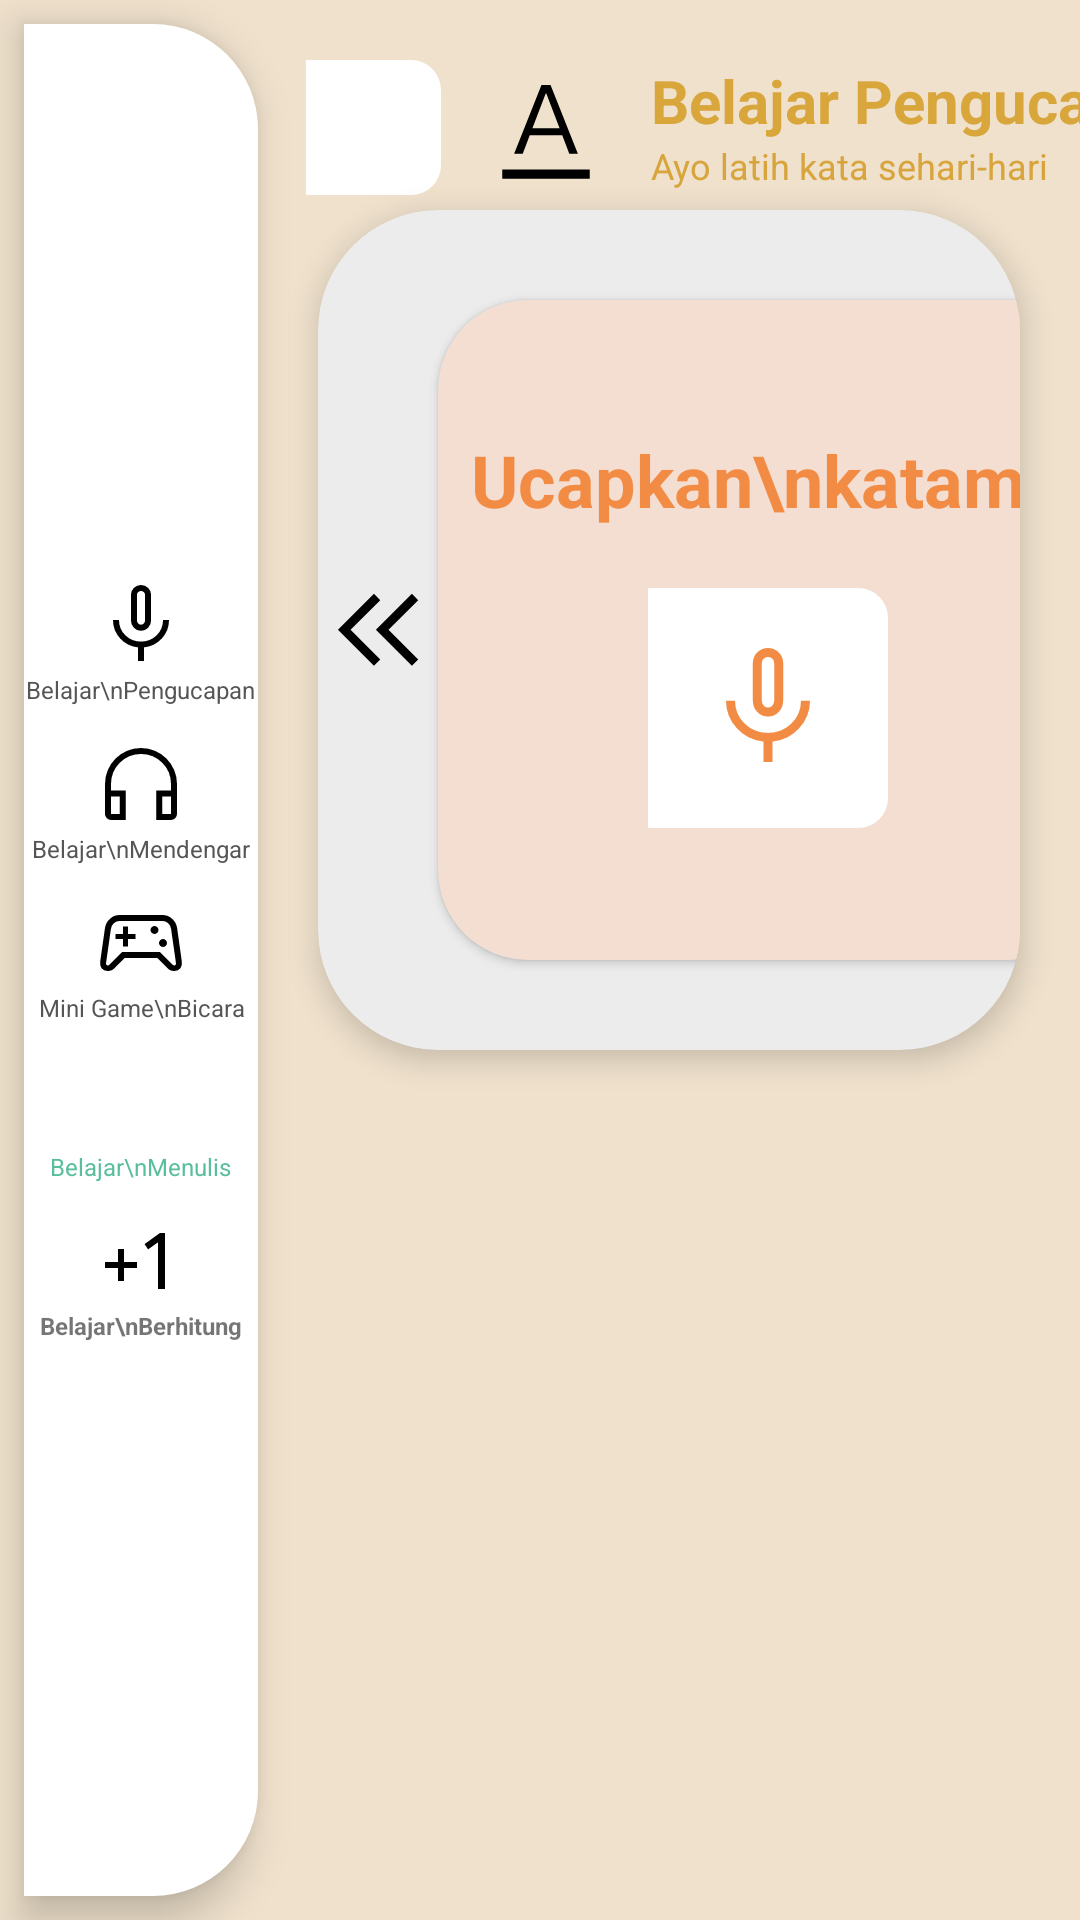

Named icons in this screenshot (1080 x 1920) and their centers, (x=x, y=y):
double left: (x=378, y=630)
headset: (x=141, y=784)
mic: (x=141, y=623), (x=768, y=708)
text: (x=546, y=132)
